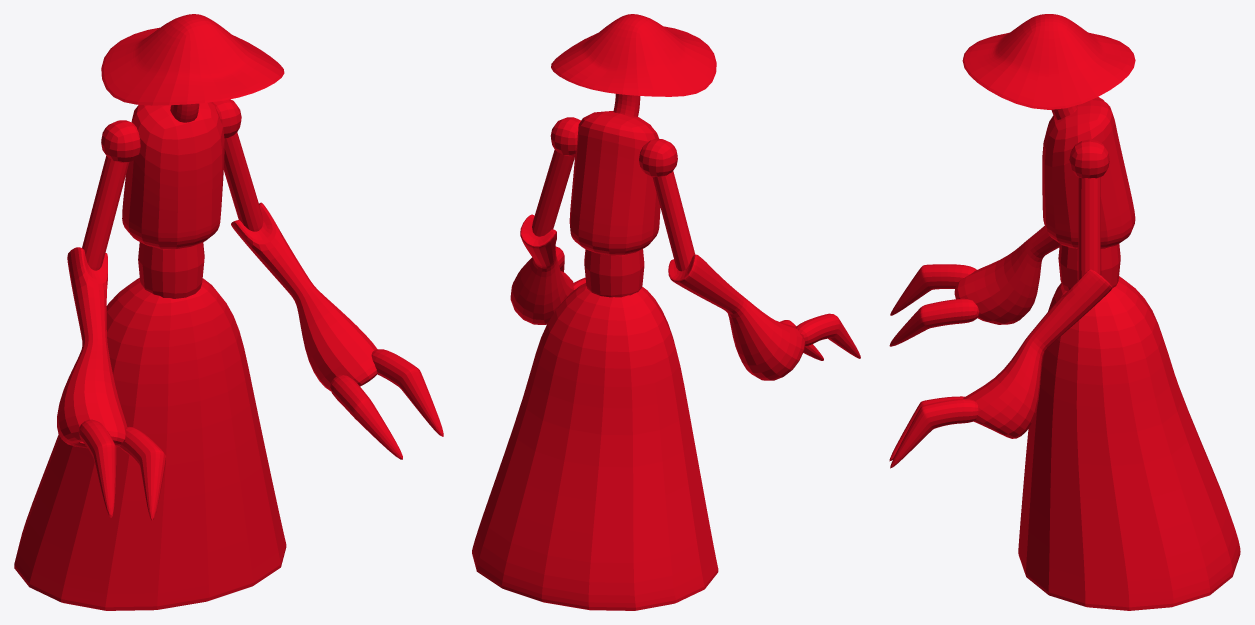
Rendered from Witch.fbx.
The picture shows the model from 3 angles, left to right: view 1: azimuth 30°, elevation 25°; view 2: azimuth 150°, elevation 25°; view 3: azimuth 270°, elevation 25°; orthographic projection. The views are drawn at different scales.
Parts seen in each view (by area): view 1: Cube.003; view 2: Cube.003; view 3: Cube.003.
Boxes of the visible parts, <box> form: Cube.003: <box>14,14,443,610</box>; Cube.003: <box>472,14,860,610</box>; Cube.003: <box>889,14,1240,610</box>.
Size of the model in its own units: 96.42 by 159 by 92.86.
